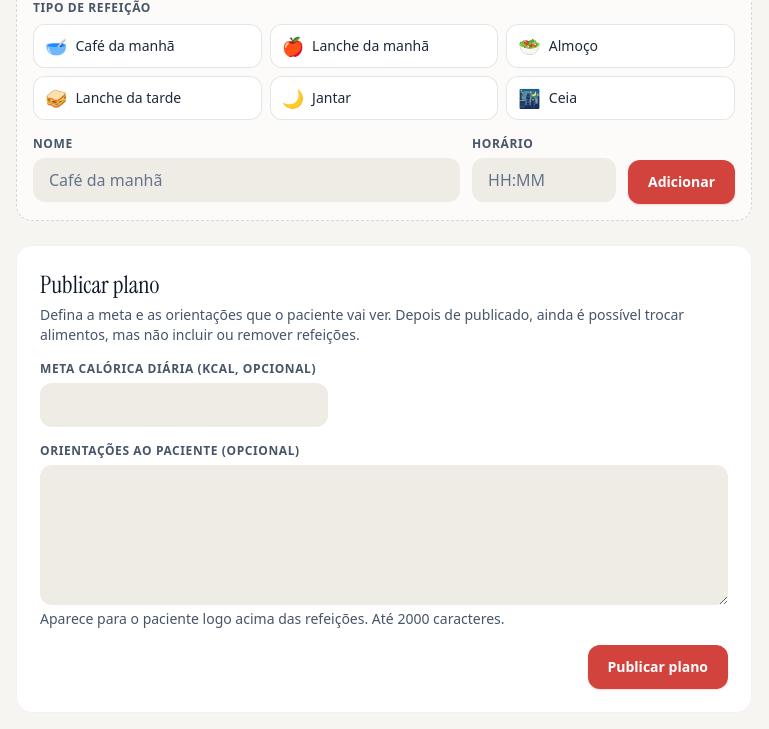
ConstrutorDePlano — rascunho (RF-04) › publica com meta e orientações depois de confirmar
The image size is (769, 729).
(page scrolled)
In the number field labelled "Meta calórica diária (kcal, opcional)": (184, 405) [40, 383, 328, 427], type "1800"
(page scrolled)
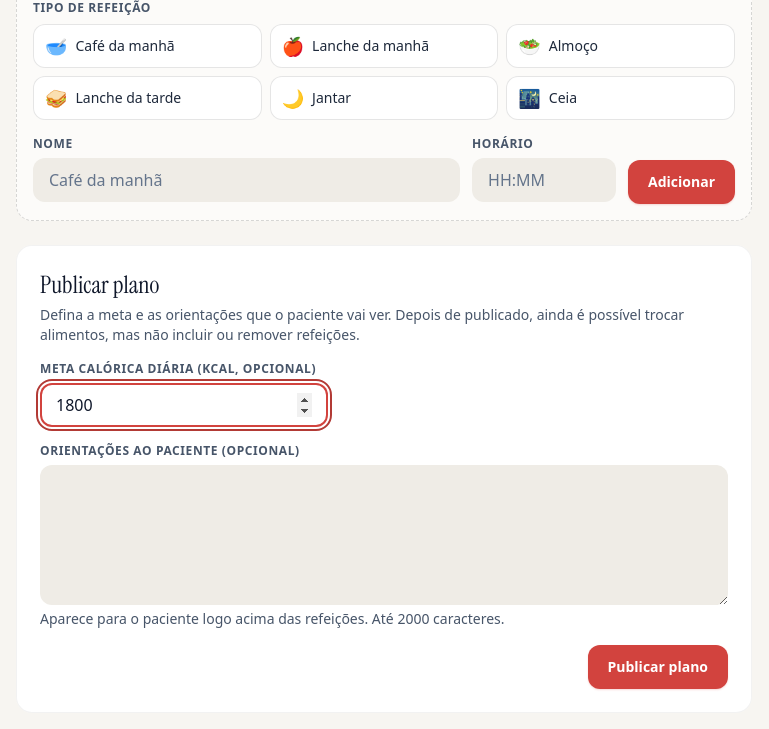
In the text box labelled "Orientações ao paciente (opcional)": (384, 535) [40, 465, 728, 605], type "Beba água."
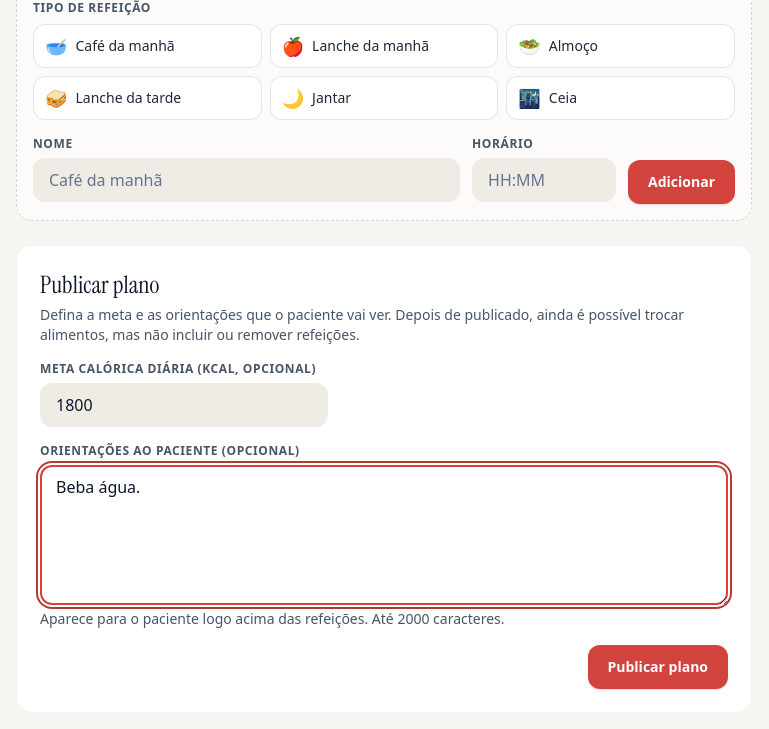
Click the button "Publicar plano": (658, 667) [588, 645, 728, 689]
(page scrolled)
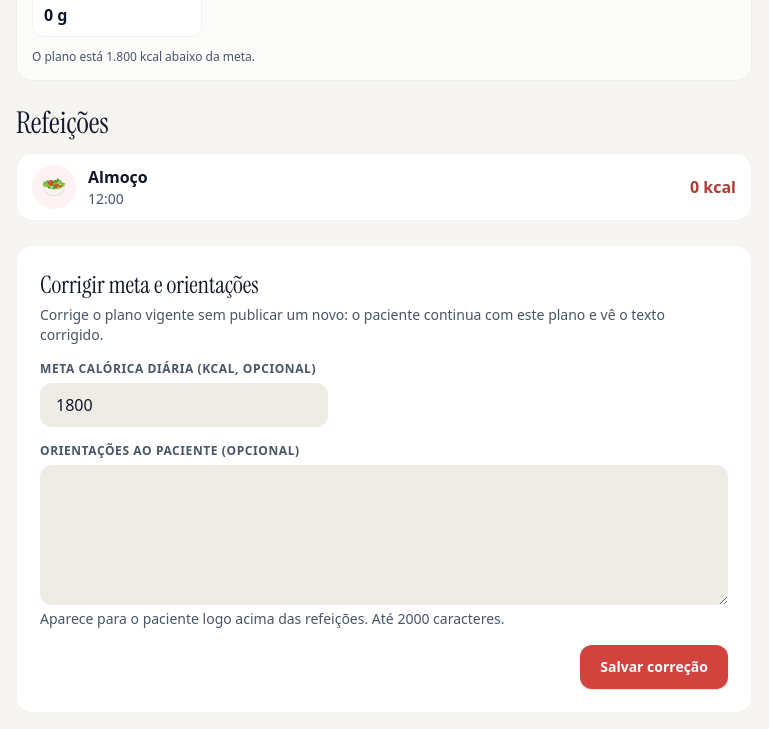
Now the button "Salvar correção" is shown, box [580, 645, 728, 689]
